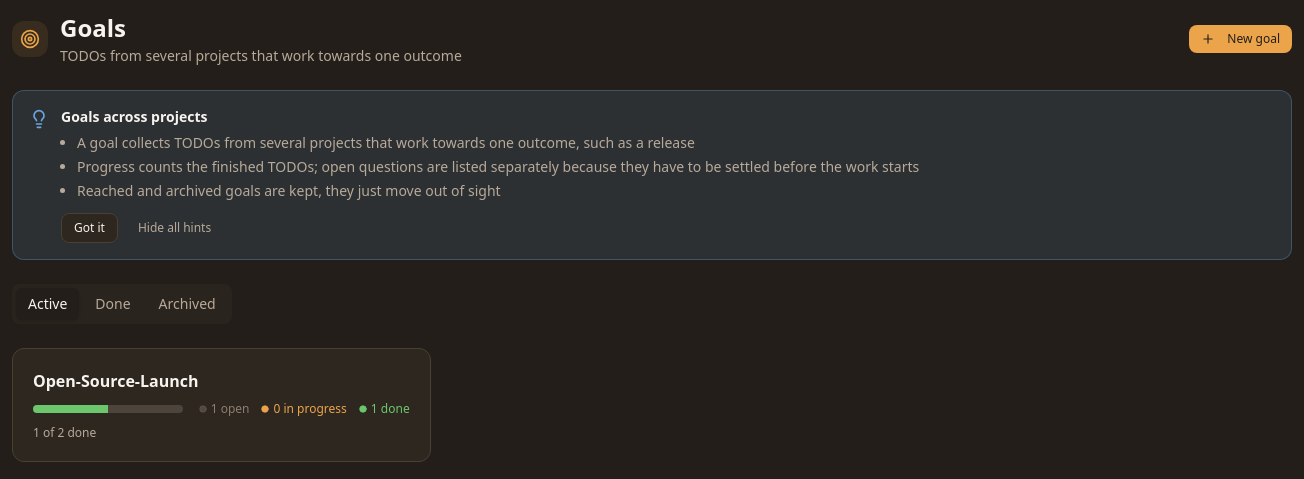
Test case: Goals page › shows the active goals first and switches to reached and archived ones per tab
The width and height of the screenshot is (1304, 479).
expect the heading "Goals" is shown: met, box [60,11,126,44]
expect the button "Open-Source-Launch" is shown: met, box [12,348,431,462]
Click the tab "Archived". click: click(187, 304)
box: [147,288,228,320]
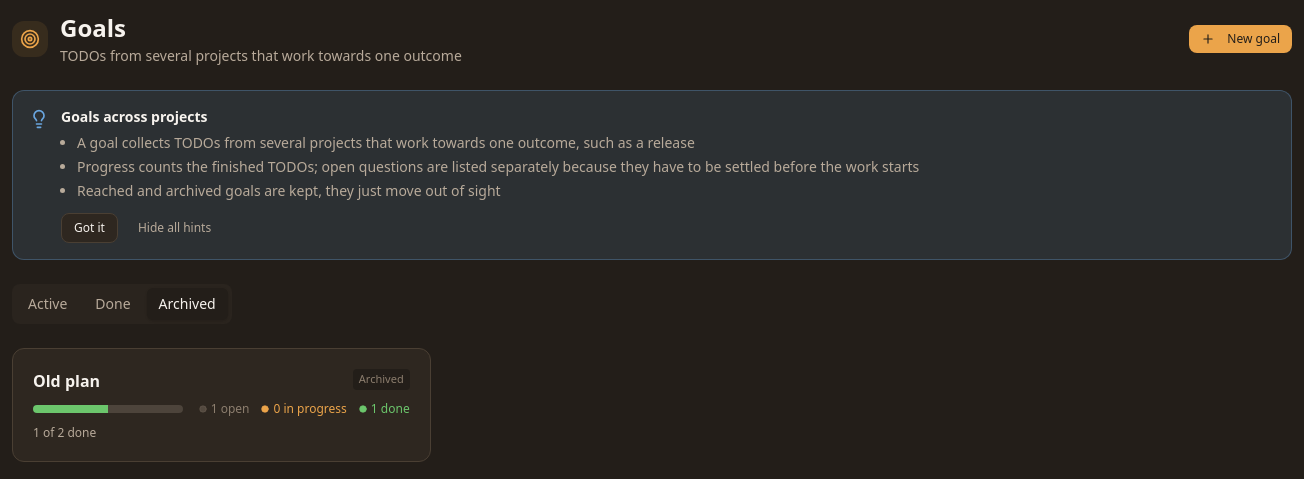
expect the button "Old plan" is shown: met, box [12,348,431,462]
expect the button "Open-Source-Launch" is gone: met
Click the tab "Done". click: click(113, 304)
box: [83,288,143,320]
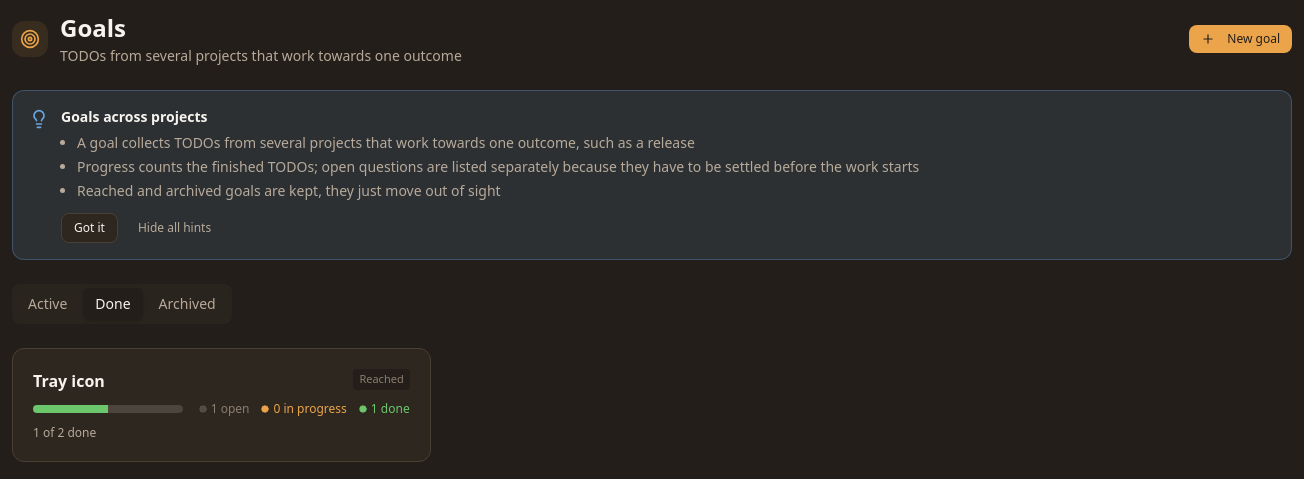
expect the button "Tray icon" is shown: met, box [12,348,431,462]
